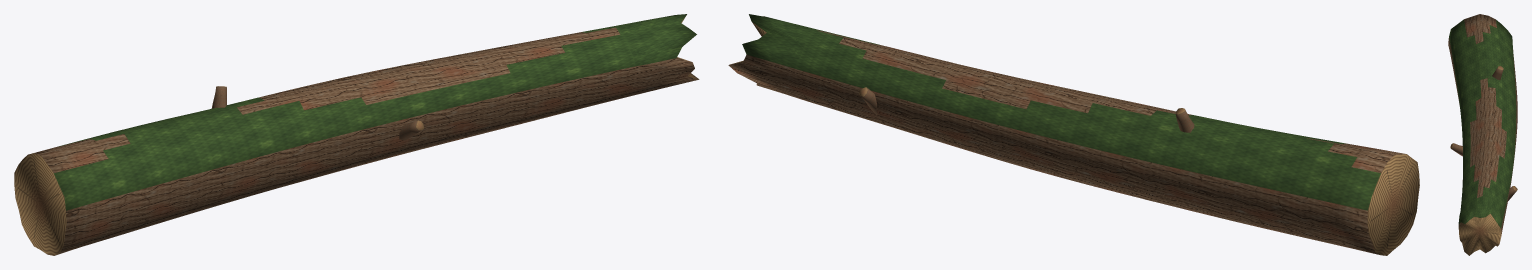
File: fallen_log_mossy.fbx
3 renders of one model, left to right at view 1: azimuth 30°, elevation 25°; view 2: azimuth 150°, elevation 25°; view 3: azimuth 270°, elevation 25°, orthographic. The views are drawn at different scales.
Parts seen in each view (by area): view 1: FallenLogMossyMesh; view 2: FallenLogMossyMesh; view 3: FallenLogMossyMesh.
Part boxes in pixels (x1=…): FallenLogMossyMesh: x1=14, y1=14, x2=699, y2=255; FallenLogMossyMesh: x1=728, y1=14, x2=1419, y2=255; FallenLogMossyMesh: x1=1448, y1=14, x2=1517, y2=255.
Bounding box in the file's own units: 18.24 × 2.75 × 2.84.
